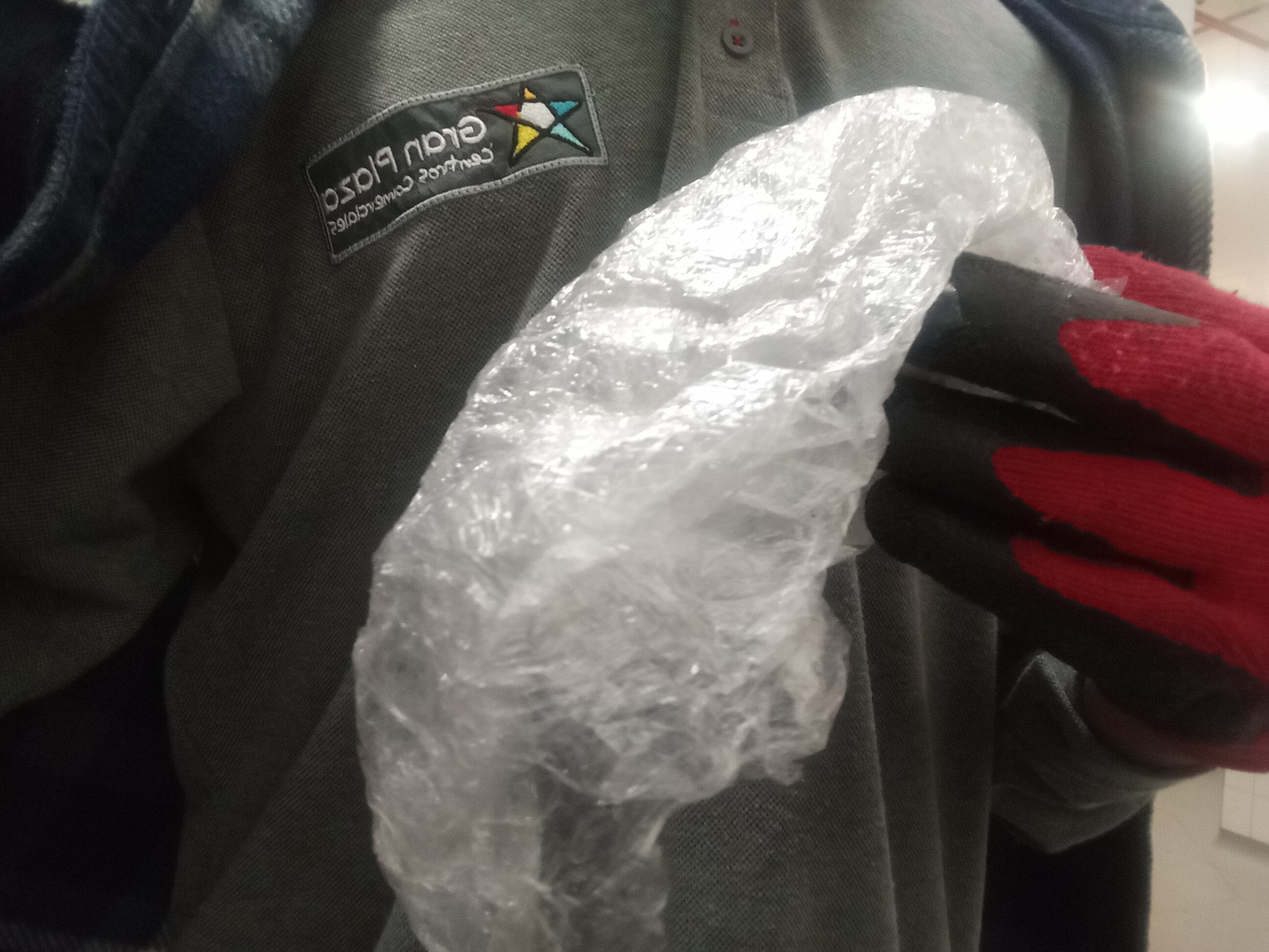Plastico: (354, 89, 1079, 952)
